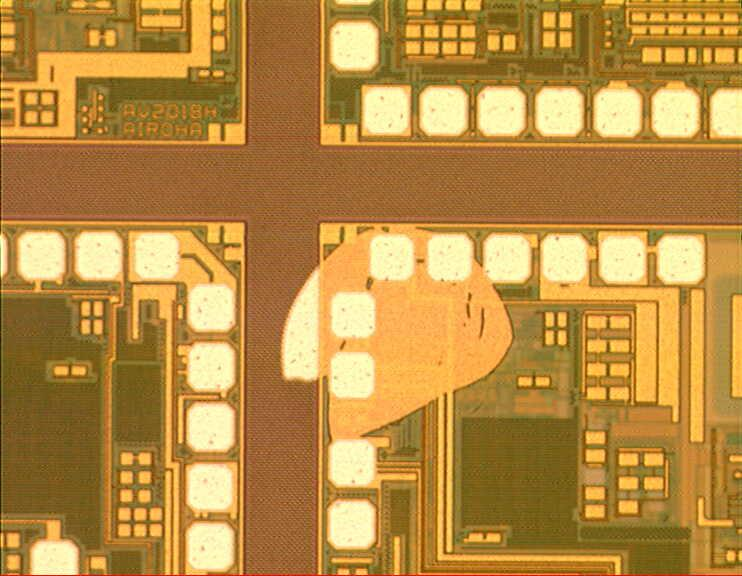BLOCK ETCH: (272, 216, 522, 458)
